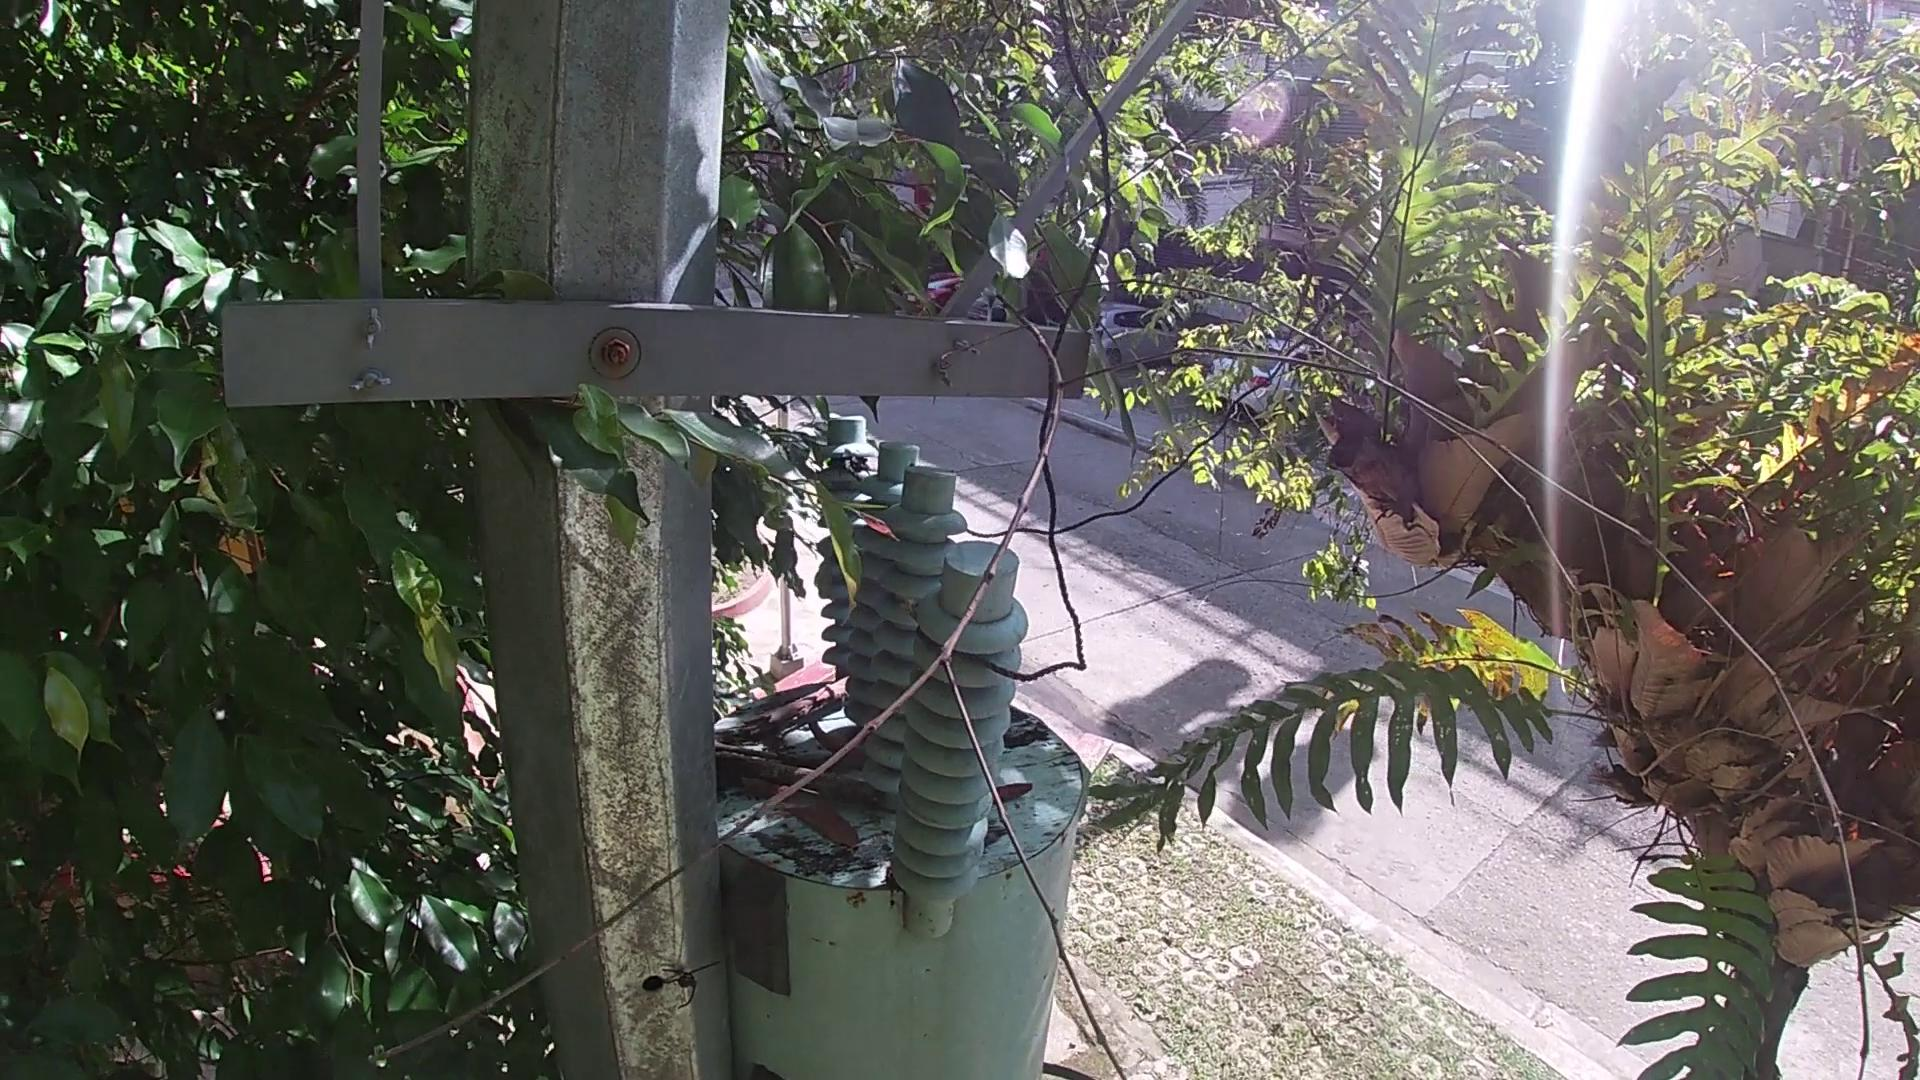leaf: (782, 802, 862, 857), (736, 773, 795, 804), (990, 781, 1035, 804)
tree branch: (357, 280, 1880, 1072), (717, 745, 880, 808), (735, 673, 855, 746)
